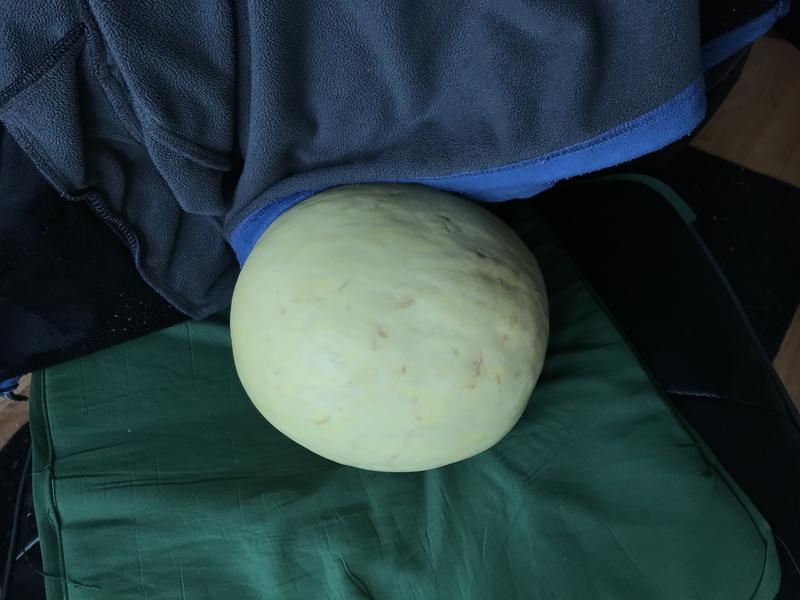honeydew: (219, 173, 557, 483)
